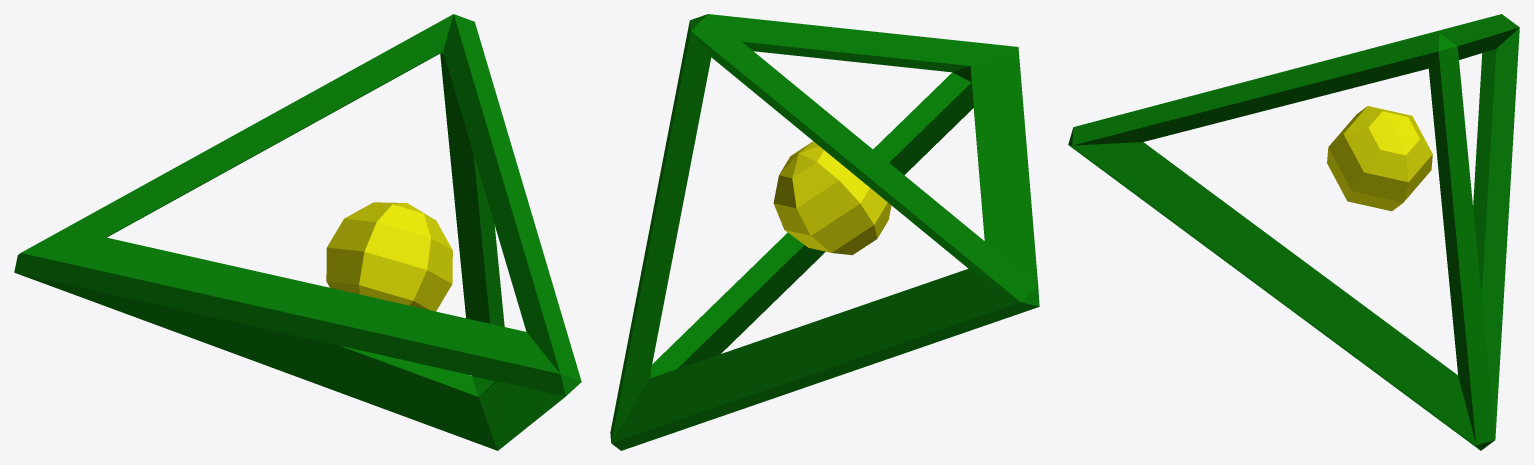
Rendered from enemy_pyramid.glb.
The picture shows the model from 3 angles, left to right: view 1: azimuth 30°, elevation 25°; view 2: azimuth 150°, elevation 25°; view 3: azimuth 270°, elevation 25°; orthographic projection. The views are drawn at different scales.
Parts seen in each view (by area): view 1: pyramid; view 2: pyramid; view 3: pyramid.
Part boxes in pixels (x1,y1,x2,y2): pyramid: [14, 14, 581, 450]; pyramid: [610, 14, 1039, 450]; pyramid: [1068, 14, 1519, 450].
Size of the model in its own units: 1.19 by 1.11 by 1.17.
